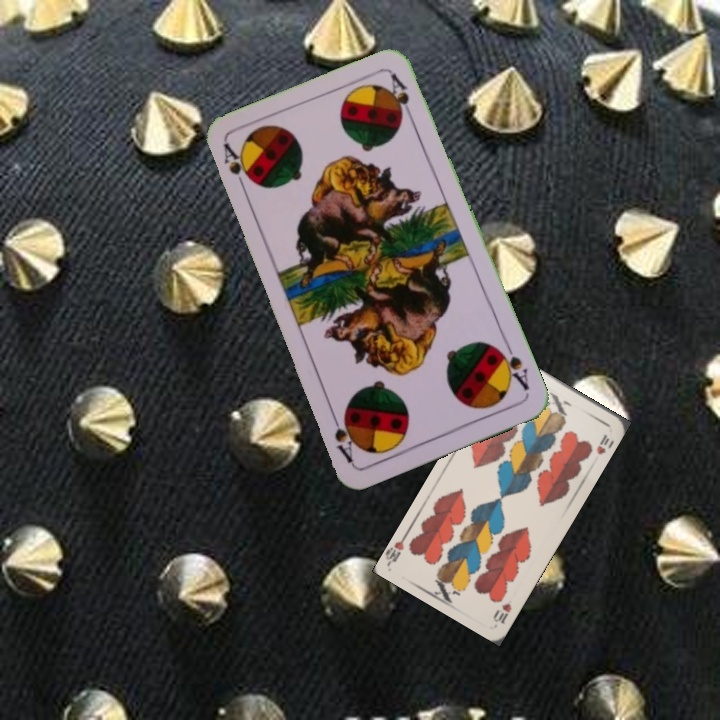H10: (489, 599, 514, 627)
SA: (492, 338, 532, 393), (219, 139, 253, 196)
